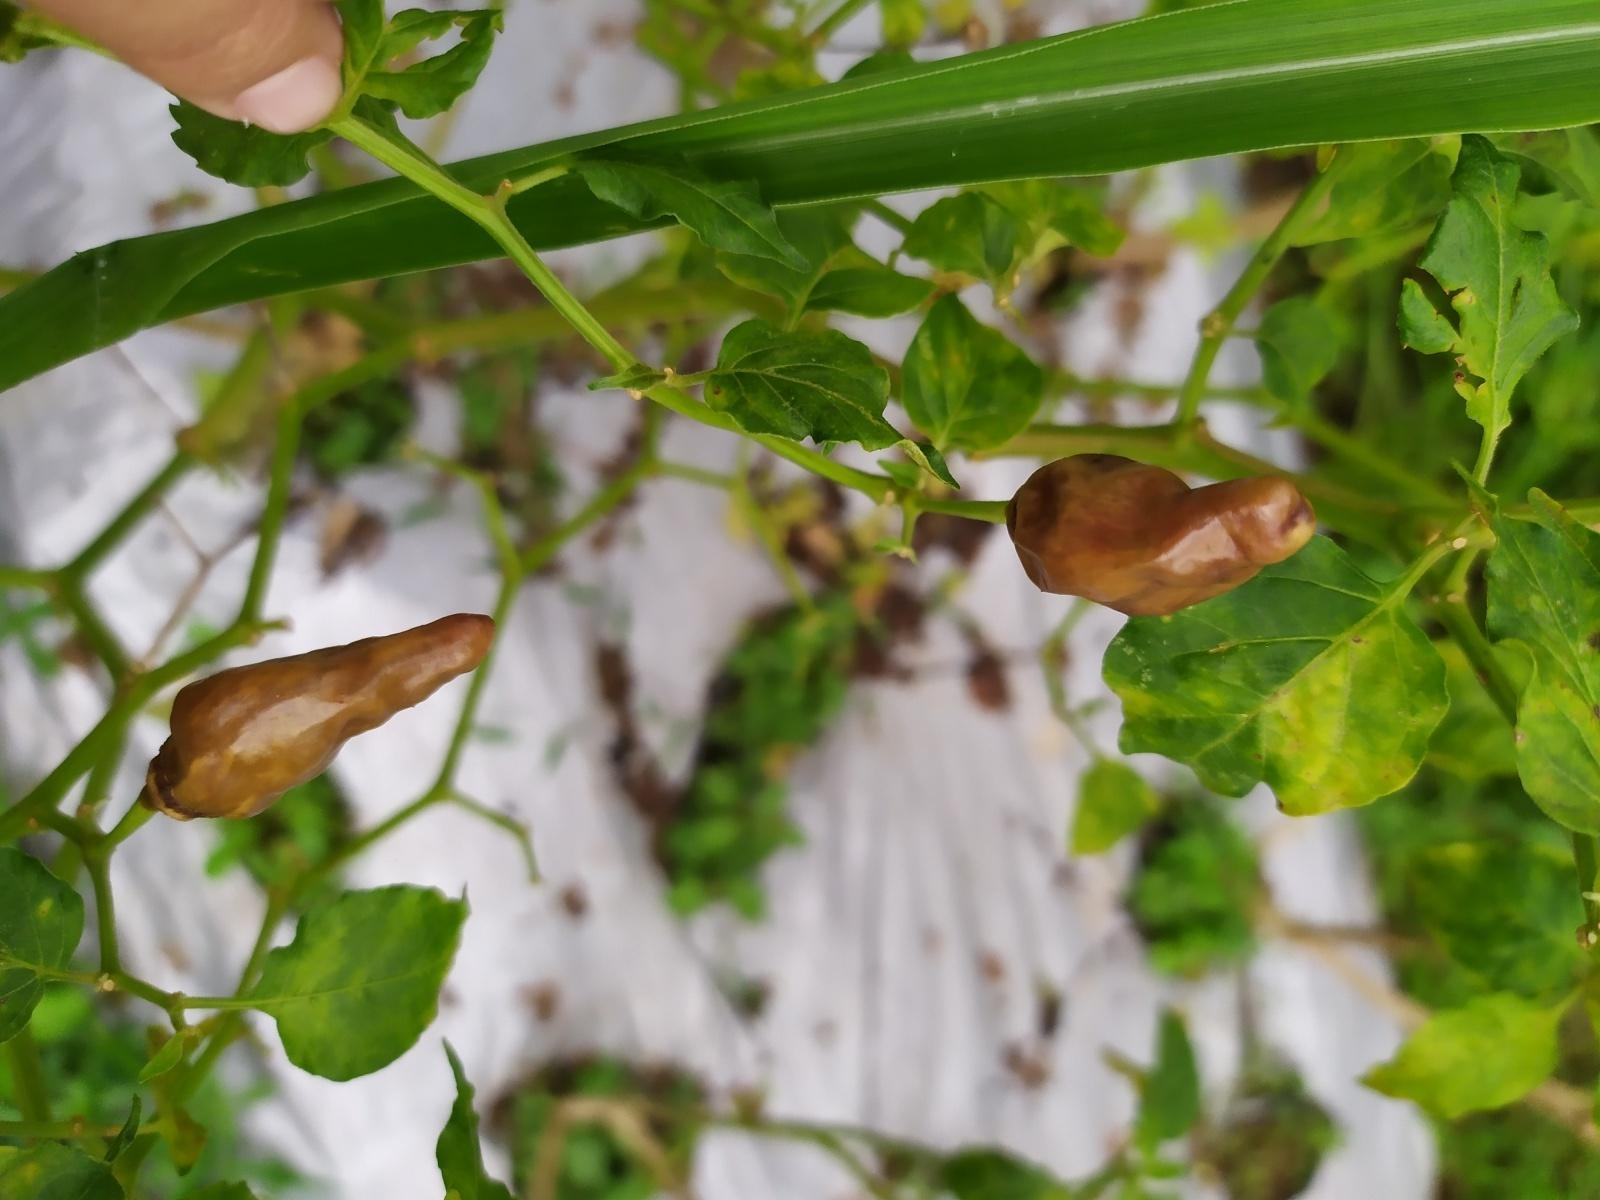lalat_buah: (146, 612, 499, 822), (1007, 453, 1319, 621)
